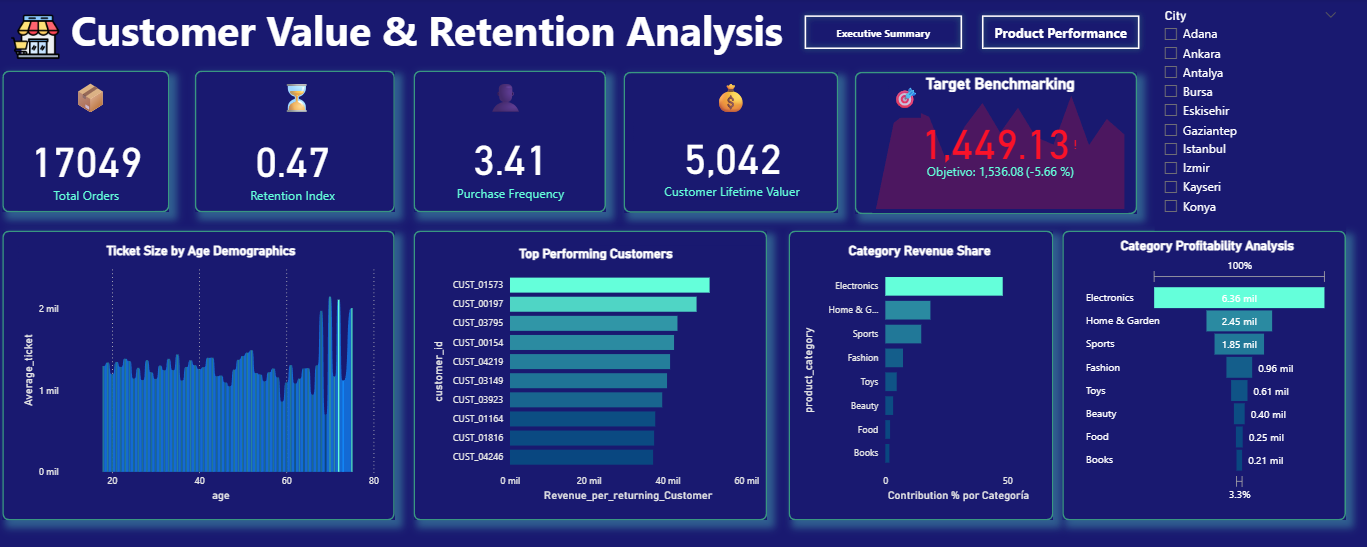

What the dashboard file says about the page in this screenshot:
{"tool":"powerbi","page":{"name":"Executive Summary","canvas":[1800,720],"ordinal":0},"visuals":[{"type":"shape","box":[1129.9,96.5,369.6,186.4],"z":1000},{"type":"shape","box":[15.3,95.4,218.8,185.7],"z":2000},{"type":"shape","box":[267.1,95.4,262,185.7],"z":3000},{"type":"shape","box":[552.5,95.4,251.8,185.7],"z":4000},{"type":"shape","box":[552.7,304.1,462.8,379.4],"z":5000},{"type":"card","fields":{"Values":["bi dim_customers.Months_50_Percent_Ratio"]},"box":[276,161.5,236.6,114.5],"z":6000},{"type":"clusteredBarChart","title":"Top Performing Customers","fields":{"Category":["bi fact_sales.customer_id"],"Y":["bi fact_sales.Revenue_per_returning_Customer"]},"box":[572.3,323.8,438.2,340.1],"z":7000},{"type":"shape","box":[14.7,304.1,513.4,379.4],"z":8000},{"type":"shape","box":[0,5.1,1400.8,76.7],"z":9000},{"type":"card","fields":{"Values":["bi dim_customers.Orders_per_customers"]},"box":[571.5,157.7,214.9,119.5],"z":10000},{"type":"card","fields":{"Values":["Sum(bi dim_customers.total_orders)"]},"box":[35.6,161.5,178.1,115.7],"z":11000},{"type":"textbox","box":[99.7,0,974.6,88.3],"z":12000},{"type":"image","box":[14.7,13.1,86.7,75.2],"z":13000},{"type":"kpi","title":"Target Benchmarking","fields":{"TrendLine":["bi dim_date.YearMonth"],"Indicator":["bi fact_sales.Revenue_per_returning_Customer"],"Goal":["bi dim_customers.KPI_destiny"]},"box":[1152.8,99.7,335.2,181.5],"z":14000},{"type":"shape","box":[827.9,96.7,281.1,184.4],"z":15000},{"type":"card","fields":{"Values":["bi fact_sales.Revenue_per_returning_Customer"]},"box":[841.2,161.5,258.2,105.6],"z":16000},{"type":"textbox","box":[100.5,100.5,71.2,62.3],"z":17000},{"type":"textbox","box":[370.1,100.5,71.2,62.3],"z":18000},{"type":"textbox","box":[642.8,100.5,71.2,62.3],"z":19000},{"type":"textbox","box":[936.6,99.2,71.2,59.8],"z":20000},{"type":"textbox","box":[1174.1,106.3,42.5,50.7],"z":21000},{"type":"shape","box":[1043.2,304.1,346.7,379.4],"z":22000},{"type":"clusteredBarChart","title":"Category Revenue Share","fields":{"Category":["bi dim_products.product_category"],"Y":["bi dim_customers.Contribution % por Categoría"]},"box":[1056.3,320.5,317.2,343.4],"z":23000},{"type":"shape","box":[1401.3,304.1,371.2,379.4],"z":24000},{"type":"funnel","title":"Category Profitability Analysis","fields":{"Y":["bi fact_sales.Revenue_per_returning_Customer"],"Category":["bi dim_products.product_category"]},"box":[1427.5,314,327,349.9],"z":25000},{"type":"slicer","fields":{"Values":["bi dim_customers.city"]},"box":[1522.4,8.2,250.2,296],"z":26000},{"type":"ribbonChart","title":"Ticket Size by Age Demographics","fields":{"Y":["bi fact_sales.Average_ticket"],"Category":["bi dim_customers.age"]},"box":[36,320.5,477.5,343.4],"z":27000},{"type":"pageNavigator","box":[1057,15.2,454.2,60.8],"z":27500}]}

Visuals, with their boxes in screenshot pixels (x1, y1, x2, y2), scaled from the page's 1800x720 canvas onto the 1367x547 screenshot:
shape: Rect(858, 73, 1139, 215)
shape: Rect(12, 72, 178, 214)
shape: Rect(203, 72, 402, 214)
shape: Rect(420, 72, 611, 214)
shape: Rect(420, 231, 771, 519)
card - bi dim_customers.Months_50_Percent_Ratio: Rect(210, 123, 389, 210)
"Top Performing Customers" clusteredBarChart: Rect(435, 246, 767, 504)
shape: Rect(11, 231, 401, 519)
shape: Rect(0, 4, 1064, 62)
card - bi dim_customers.Orders_per_customers: Rect(434, 120, 597, 211)
card - Sum(bi dim_customers.total_orders): Rect(27, 123, 162, 211)
textbox: Rect(76, 0, 816, 67)
image: Rect(11, 10, 77, 67)
"Target Benchmarking" kpi: Rect(875, 76, 1130, 214)
shape: Rect(629, 73, 842, 214)
card - bi fact_sales.Revenue_per_returning_Customer: Rect(639, 123, 835, 203)
textbox: Rect(76, 76, 130, 124)
textbox: Rect(281, 76, 335, 124)
textbox: Rect(488, 76, 542, 124)
textbox: Rect(711, 75, 765, 121)
textbox: Rect(892, 81, 924, 119)
shape: Rect(792, 231, 1056, 519)
"Category Revenue Share" clusteredBarChart: Rect(802, 243, 1043, 504)
shape: Rect(1064, 231, 1346, 519)
"Category Profitability Analysis" funnel: Rect(1084, 239, 1332, 504)
slicer - bi dim_customers.city: Rect(1156, 6, 1346, 231)
"Ticket Size by Age Demographics" ribbonChart: Rect(27, 243, 390, 504)
pageNavigator: Rect(803, 12, 1148, 58)
